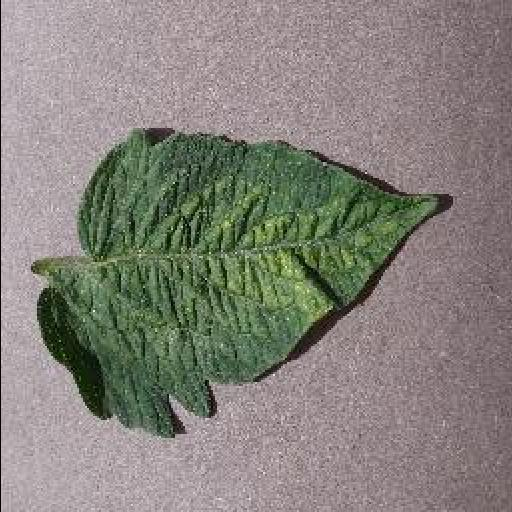disease_tomato: (34, 126, 440, 438)
